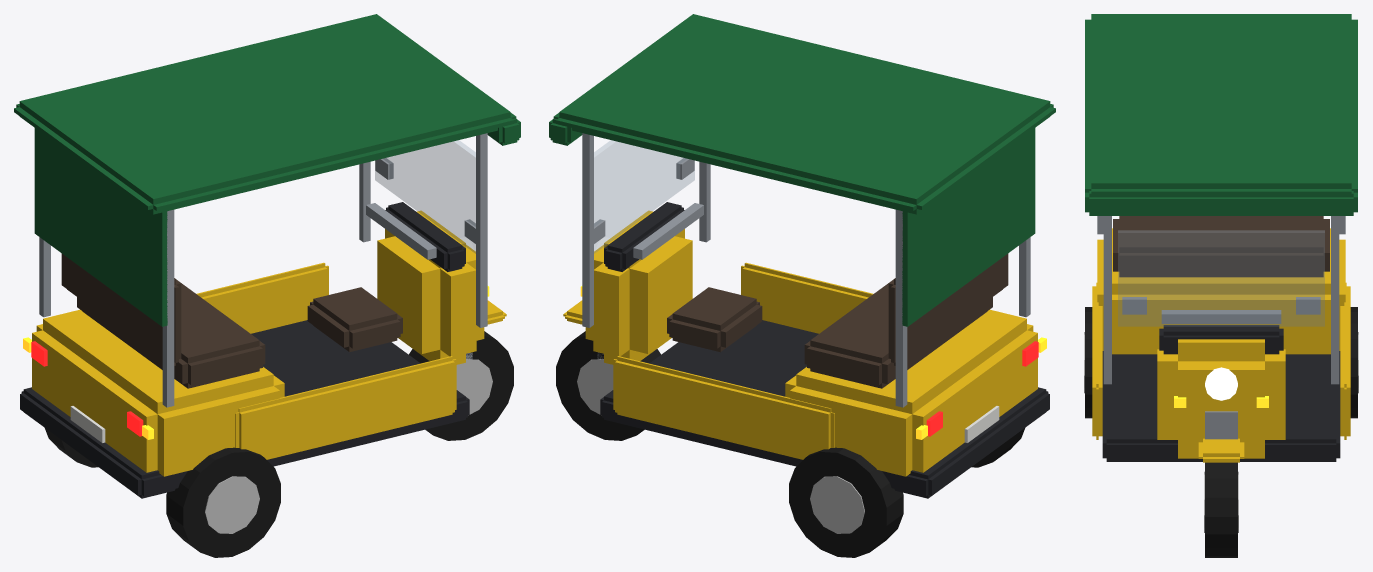
Rendered from veh_keke.glb.
3 views of the same model, side by side, from view 1: azimuth 30°, elevation 25°; view 2: azimuth 150°, elevation 25°; view 3: azimuth 270°, elevation 25° (orthographic). The views are drawn at different scales.
Parts seen in each view (by area): view 1: body, wheel_rr, glass_front, wheel_f, light_tail; view 2: body, wheel_rl, glass_front, wheel_f, light_tail; view 3: body, glass_front, wheel_f, wheel_rl, wheel_rr, light_head.
Part boxes in pixels (<box>): body: <box>14,14,520,498</box>; wheel_rr: <box>166,447,280,557</box>; glass_front: <box>375,140,475,253</box>; wheel_f: <box>409,331,513,440</box>; light_tail: <box>31,341,143,436</box>; body: <box>549,14,1055,498</box>; wheel_rl: <box>789,447,903,557</box>; glass_front: <box>594,140,694,253</box>; wheel_f: <box>556,331,660,440</box>; light_tail: <box>926,341,1038,436</box>; body: <box>1085,14,1357,462</box>; glass_front: <box>1118,230,1324,326</box>; wheel_f: <box>1204,462,1238,557</box>; wheel_rl: <box>1350,307,1358,418</box>; wheel_rr: <box>1084,307,1092,418</box>; light_head: <box>1205,367,1237,400</box>.
Bounding box in the file's own units: 2.32 × 1.94 × 1.33.
